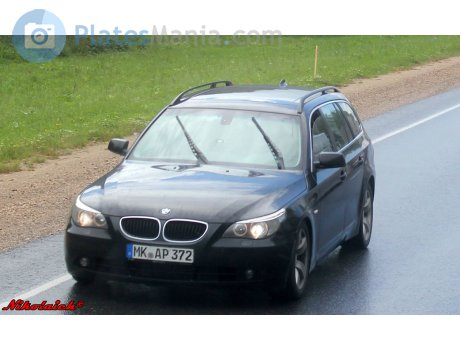License Plates: (131, 243, 190, 263)
